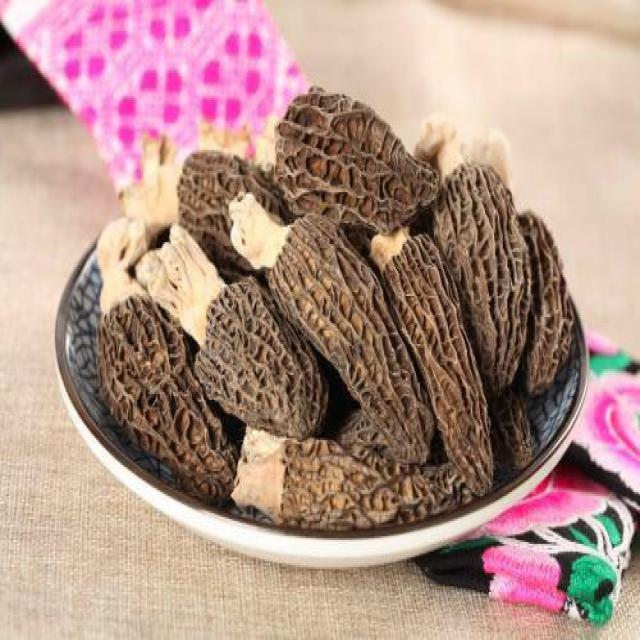Morchella esculenta: (96, 84, 574, 536)
